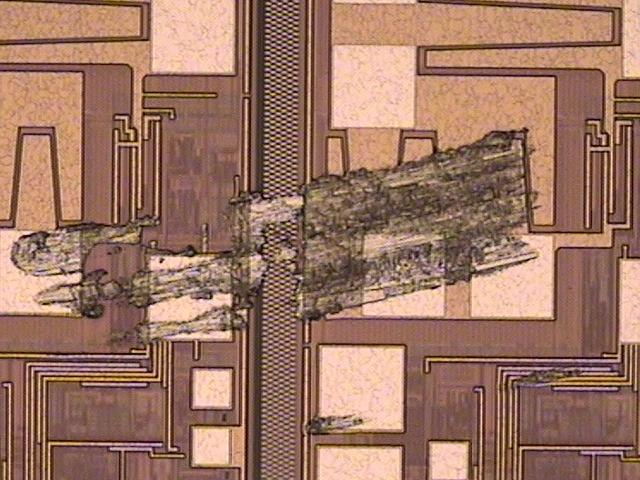SCRATCH: (6, 122, 607, 449)
